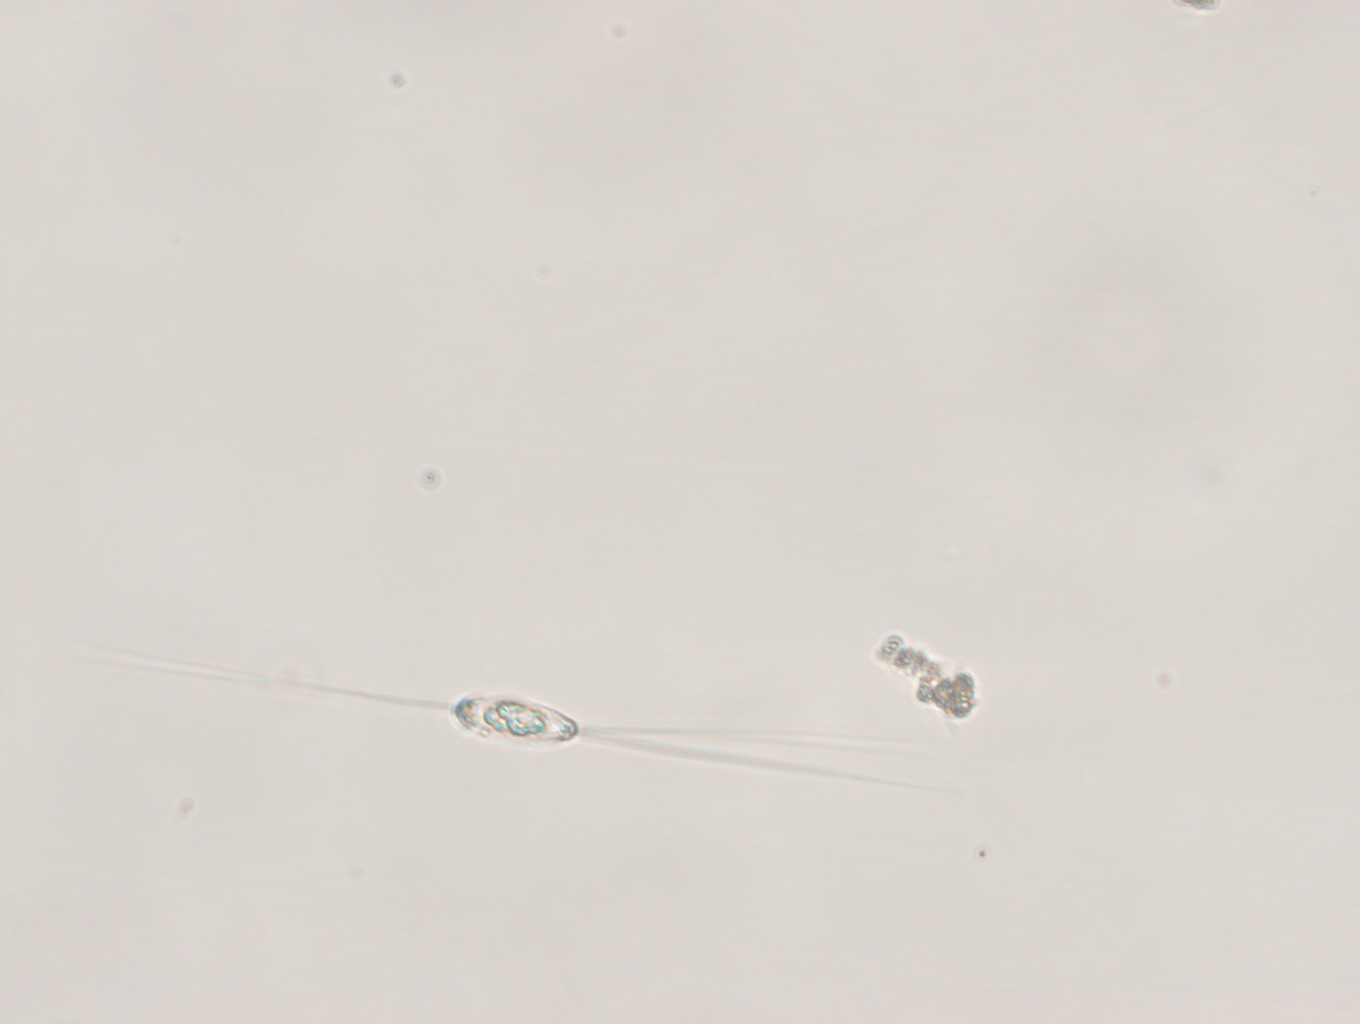chaetoceros: (102, 628, 982, 819)
